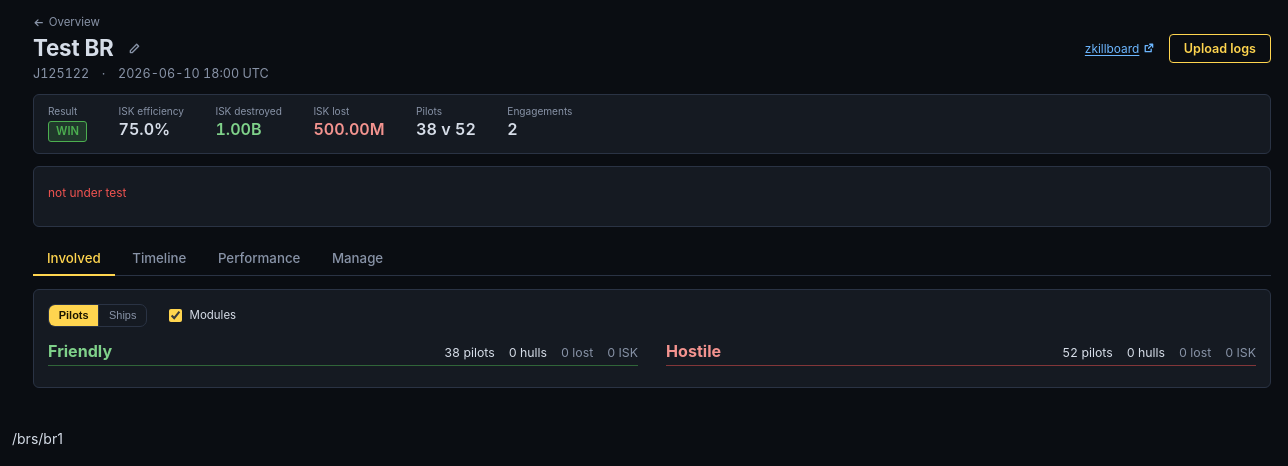
BrDetailPage › header › lets FC / High Command rename the report
The width and height of the screenshot is (1288, 466).
Click the button with test id "edit-title-btn" at {"x": 134, "y": 49}, box [120,35,147,62]
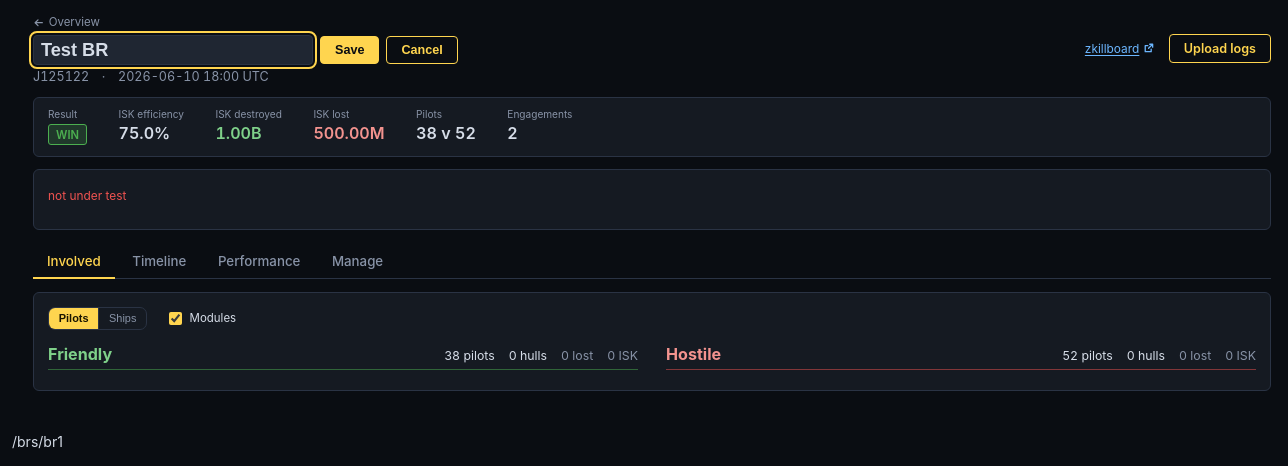
Replace the text in the field with test id "title-input" with "Renamed" at {"x": 173, "y": 50}, box [33,35,313,65]
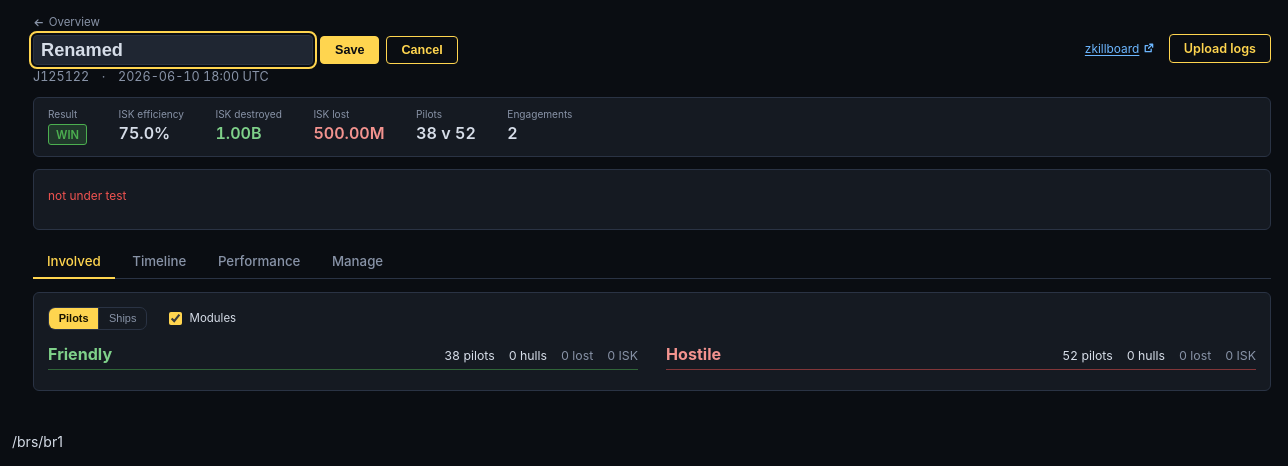
Click the button with test id "save-title-btn" at {"x": 350, "y": 50}, box [320,36,379,64]
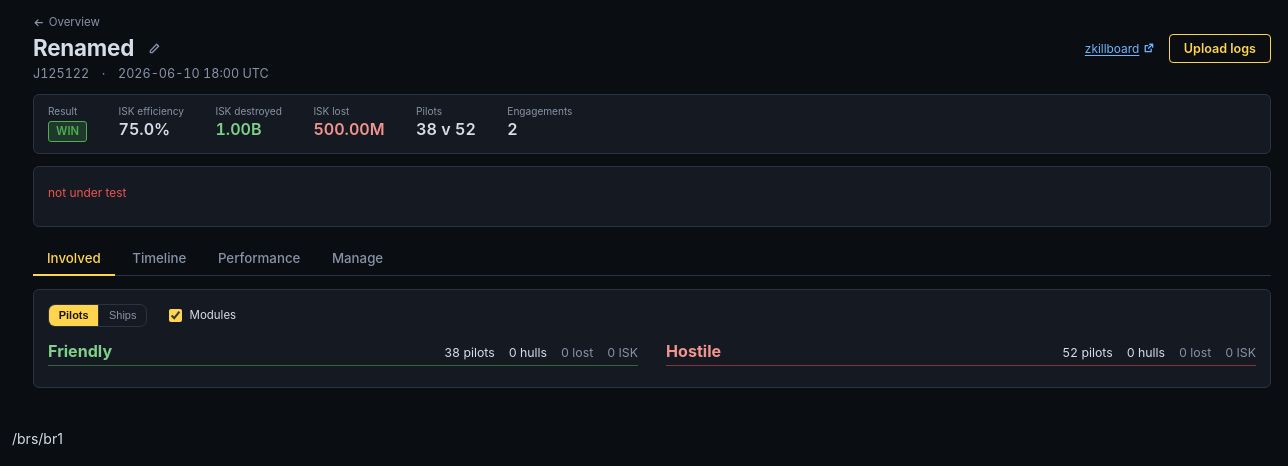
Expected: the heading "Renamed" is shown, [33,35,134,62]
